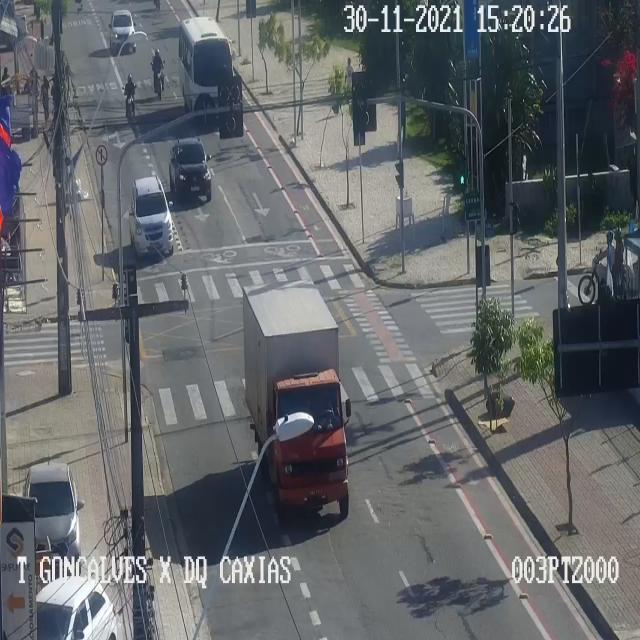Car: (23, 460, 84, 558), (178, 17, 232, 125), (34, 576, 117, 639), (130, 174, 174, 254), (169, 138, 213, 204), (108, 9, 136, 54)
Motorcycle: (576, 228, 626, 305), (121, 74, 138, 128), (149, 47, 165, 100)
Truck: (242, 280, 352, 529)
